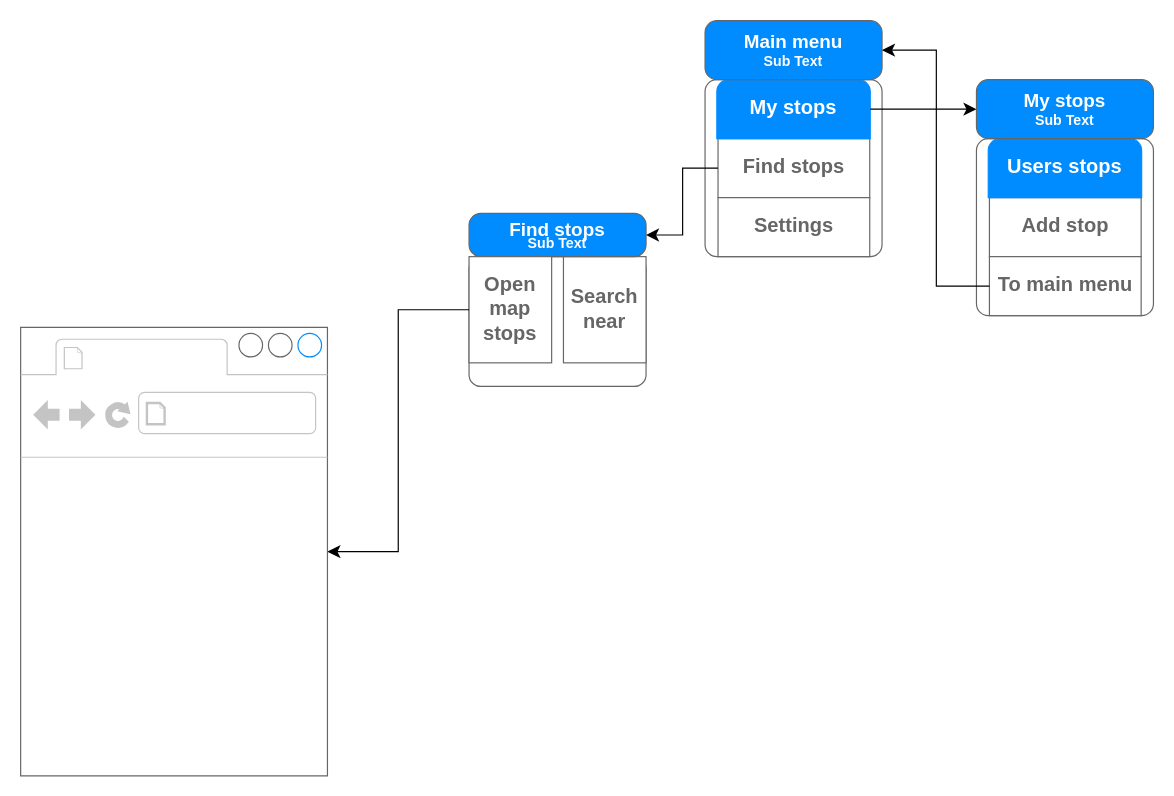
The diagram is 1174 pixels wide and 796 high, and some of its shapes have lost their labels. Here are the shapes that lost their labels. From the top down, the centre of each, then its label:
point 155,356: Page 1
point 321,413: home_page/bus_stops_info/bus_stops_info_en.html
